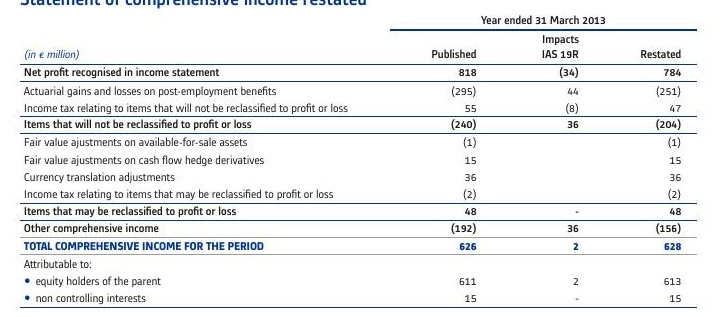table: (0, 0, 722, 317)
